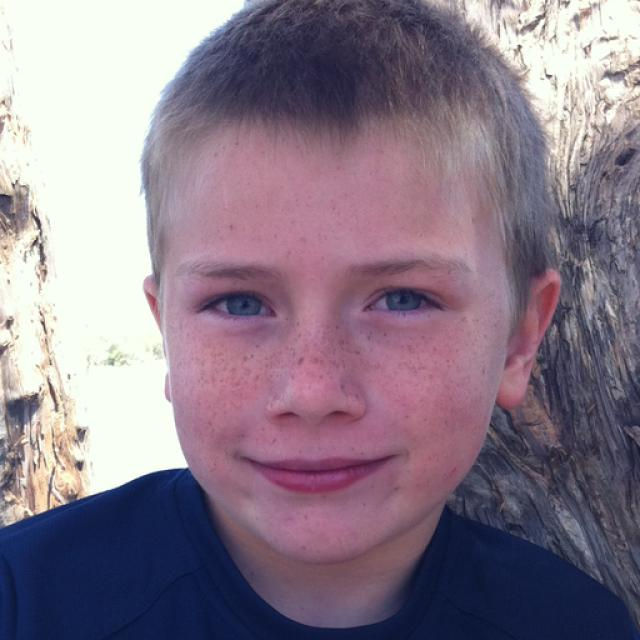Pigmentation: (358, 323, 487, 429), (262, 314, 365, 411), (171, 318, 268, 414)
